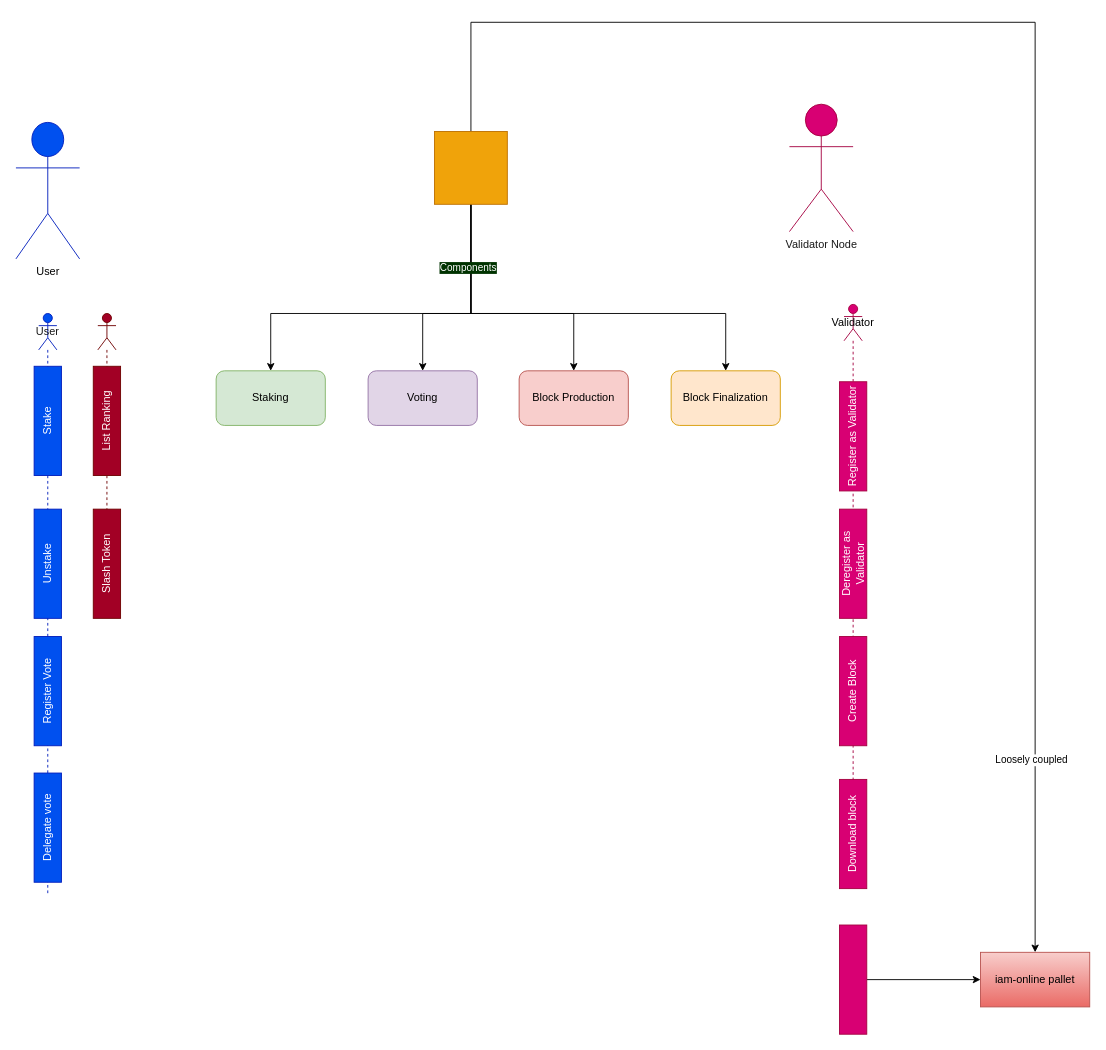
Some shapes in this 1106 by 1050 pixel diagram are drawn without their labels. The box of each missing label's shape, as (x1, y1, x2, y2) in pixels:
Admin: (97, 313, 116, 586)
DPoS Pallet: (434, 131, 507, 204)
Send Heartbeat: (839, 924, 867, 1034)
